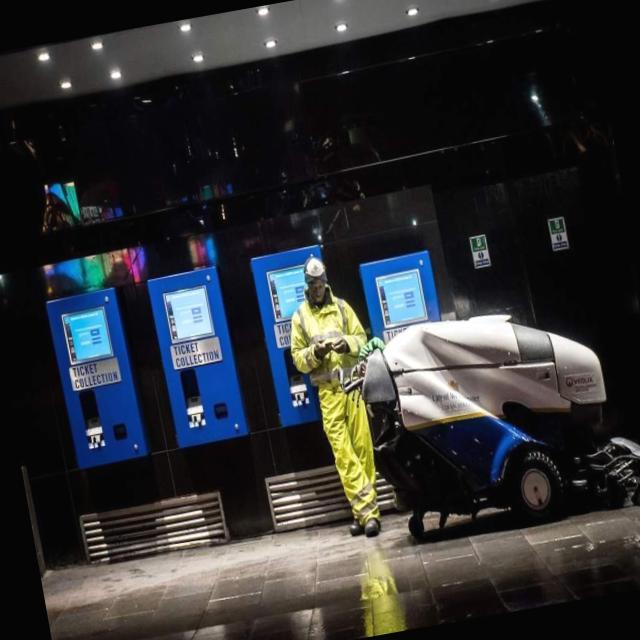helmet: (300, 255, 328, 280)
vest: (283, 296, 377, 406)
